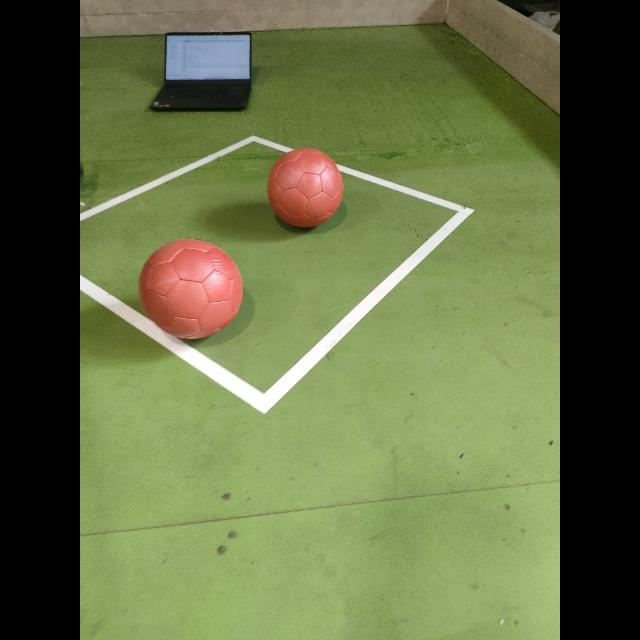R: (140, 240, 242, 338), (268, 148, 342, 228)
